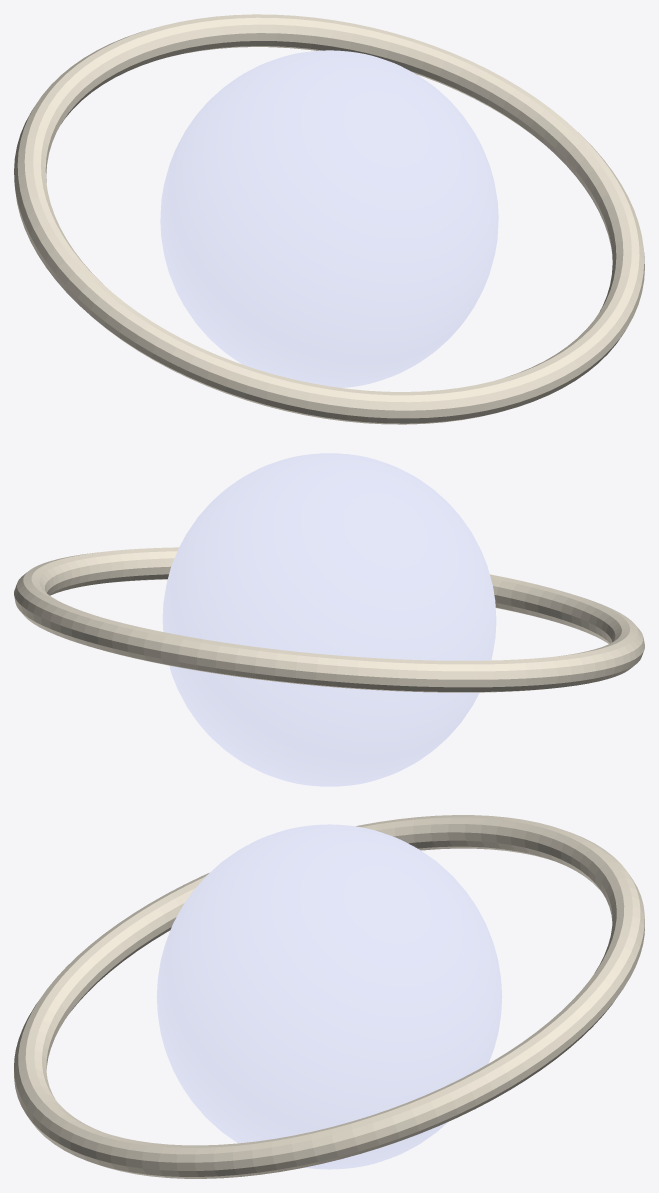
The model's file is planet_2.glb.
3 views of the same model, one above another, from view 1: azimuth 30°, elevation 25°; view 2: azimuth 150°, elevation 25°; view 3: azimuth 270°, elevation 25° (orthographic). The views are drawn at different scales.
Parts seen in each view (by area): view 1: atmo_2, ring_2; view 2: atmo_2, ring_2; view 3: atmo_2, ring_2.
Boxes of the visible parts, box(x1,y1,x2,y2) form: atmo_2: box(160, 50, 498, 387); ring_2: box(14, 14, 644, 424); atmo_2: box(162, 453, 496, 786); ring_2: box(14, 547, 644, 692); atmo_2: box(156, 824, 502, 1169); ring_2: box(14, 815, 644, 1178).
Size of the model in its own units: 3.89 by 2.06 by 3.76.
